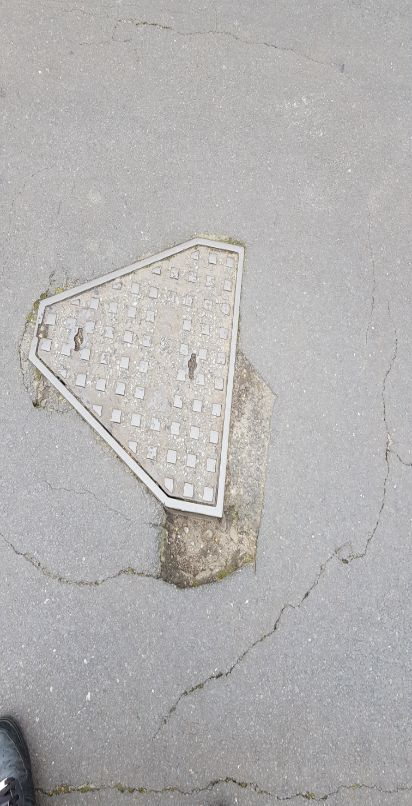pothole: (148, 350, 285, 596)
